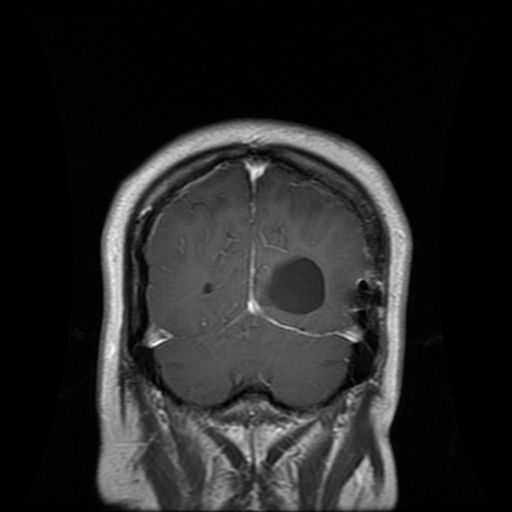glioma: (268, 256, 327, 311)
